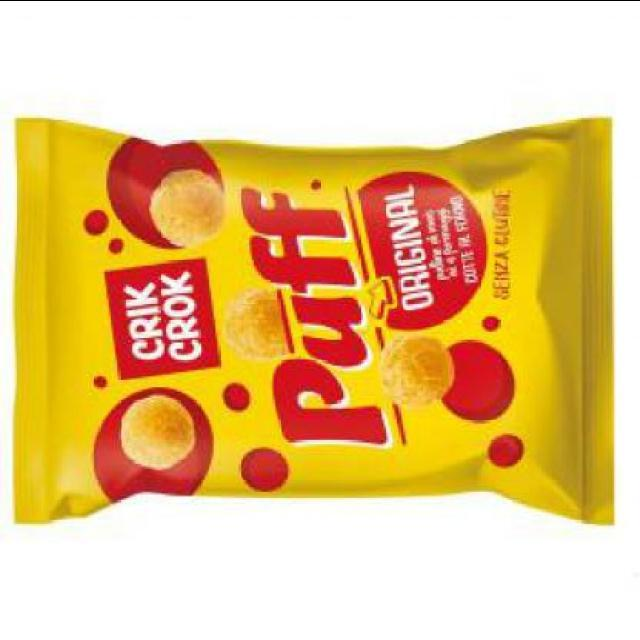Chips: (6, 98, 608, 542)
